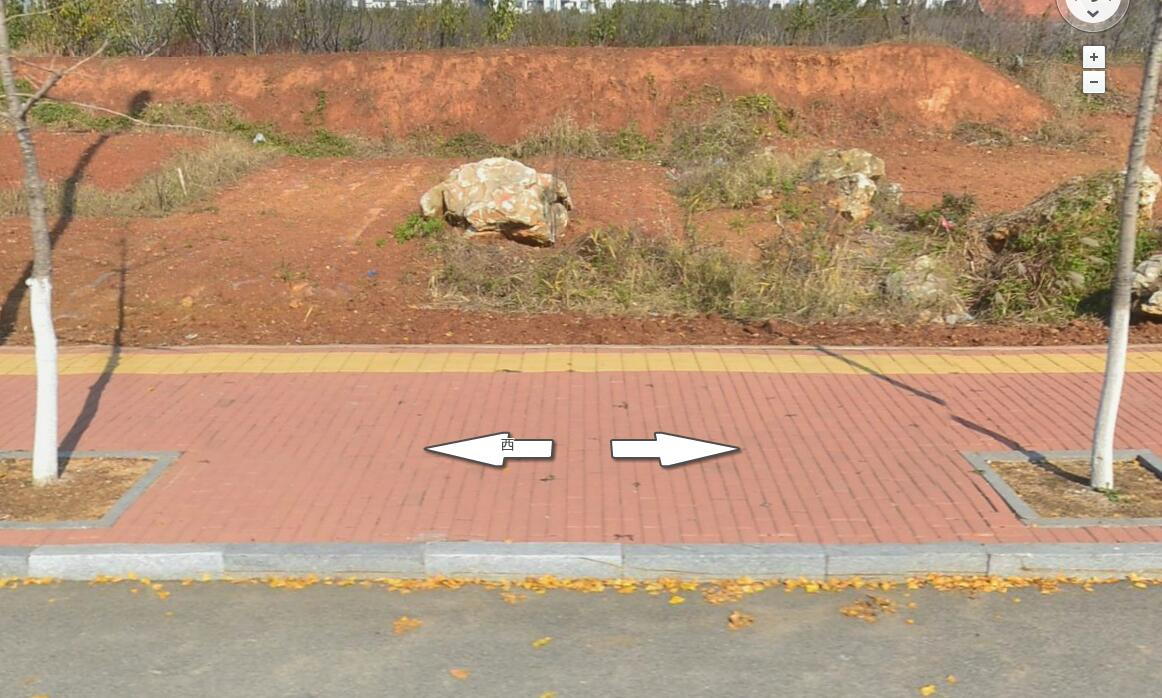side: (624, 542, 828, 584), (422, 540, 624, 582), (222, 542, 424, 579), (28, 543, 223, 579), (827, 542, 990, 583), (991, 543, 1162, 580)
